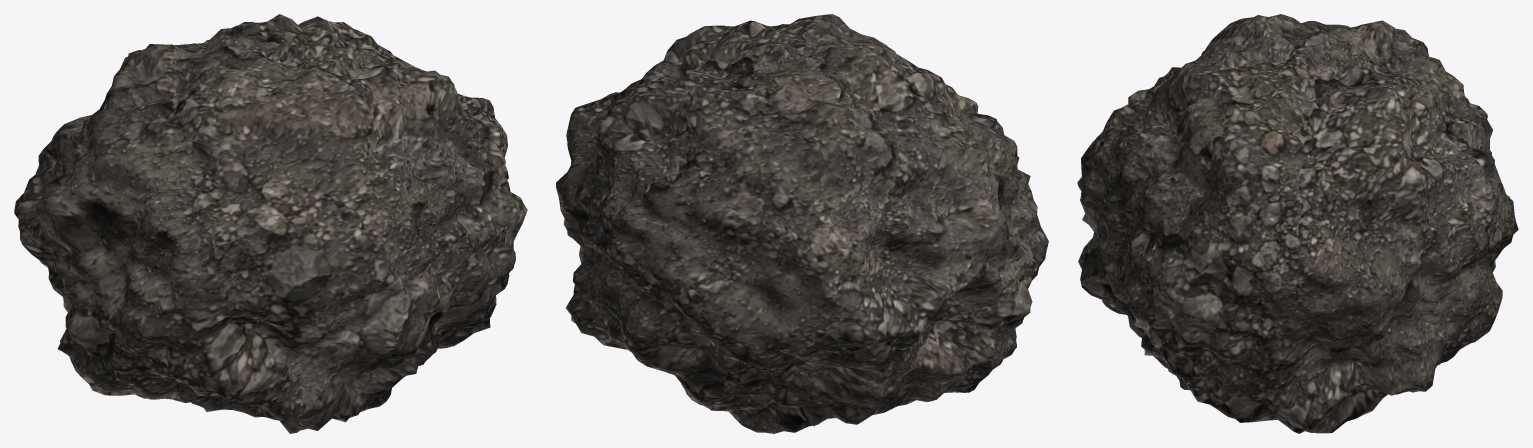
Rendered from asteroid-1.glb.
3 renders of one model, left to right at view 1: azimuth 30°, elevation 25°; view 2: azimuth 150°, elevation 25°; view 3: azimuth 270°, elevation 25°, orthographic. The views are drawn at different scales.
Visible parts, largest first — view 1: asteroid-1; view 2: asteroid-1; view 3: asteroid-1.
Part boxes in pixels (x1,y1,x2,y2): asteroid-1: (14,14,527,433); asteroid-1: (556,14,1048,433); asteroid-1: (1077,14,1518,433).
Bounding box in the file's own units: 1.91 × 1.55 × 1.7.
Materials: 1 (1 with a texture image).
